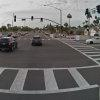Crosswalk: (2, 58, 100, 100)
